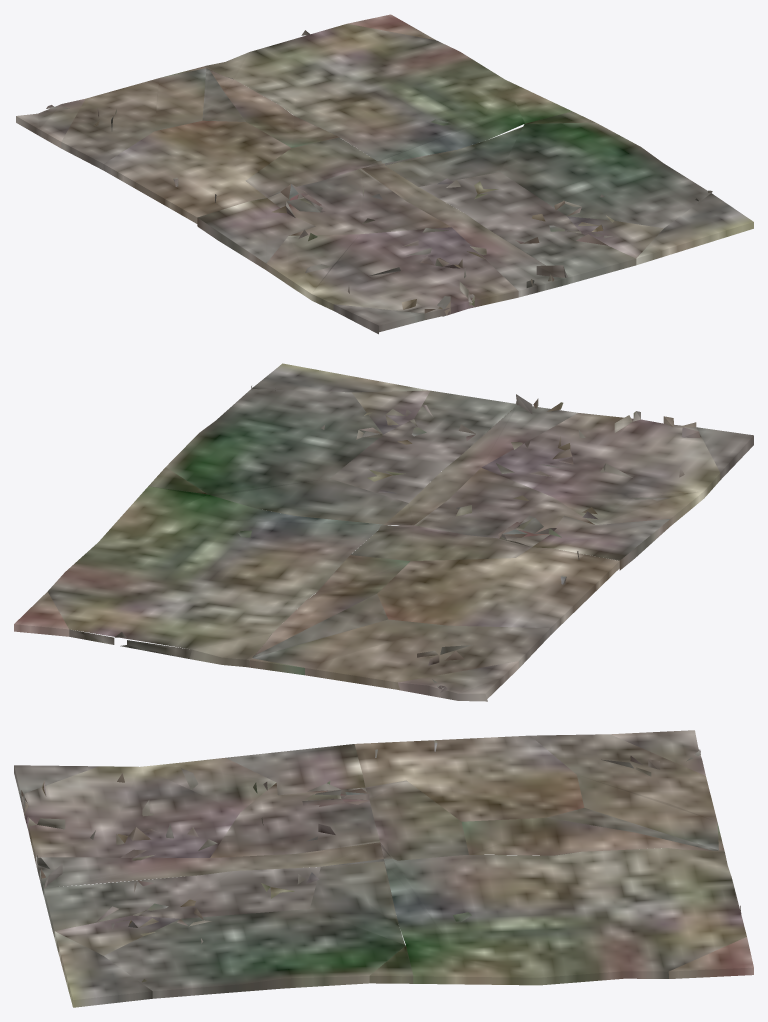
3 views of the same model, one above another, from view 1: azimuth 30°, elevation 25°; view 2: azimuth 150°, elevation 25°; view 3: azimuth 270°, elevation 25° (orthographic). The views are drawn at different scales.
Parts seen in each view (by area): view 1: Mesh_0; view 2: Mesh_0; view 3: Mesh_0.
Part boxes in pixels (left/top/right/bottom): Mesh_0: left=16, top=14, right=753, bottom=334; Mesh_0: left=14, top=363, right=753, bottom=701; Mesh_0: left=14, top=730, right=753, bottom=1007.
Bounding box in the file's own units: 2138 × 148 × 2636.
1 material, 1 textured.
